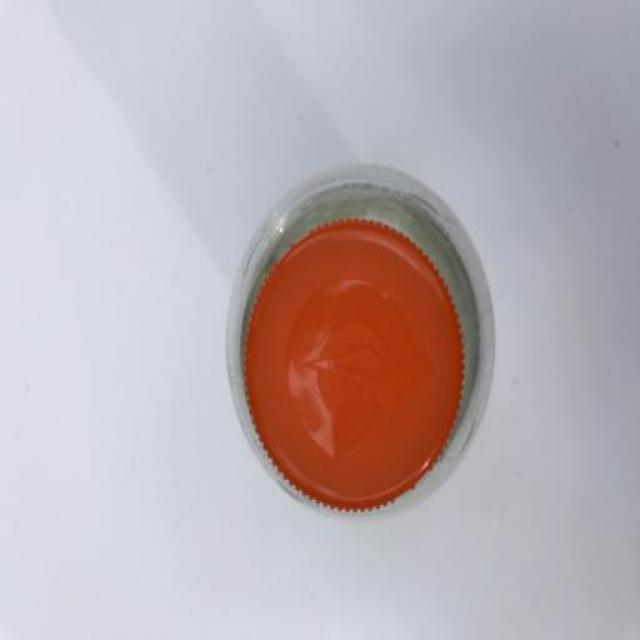plastic_bottle: (199, 65, 532, 584)
